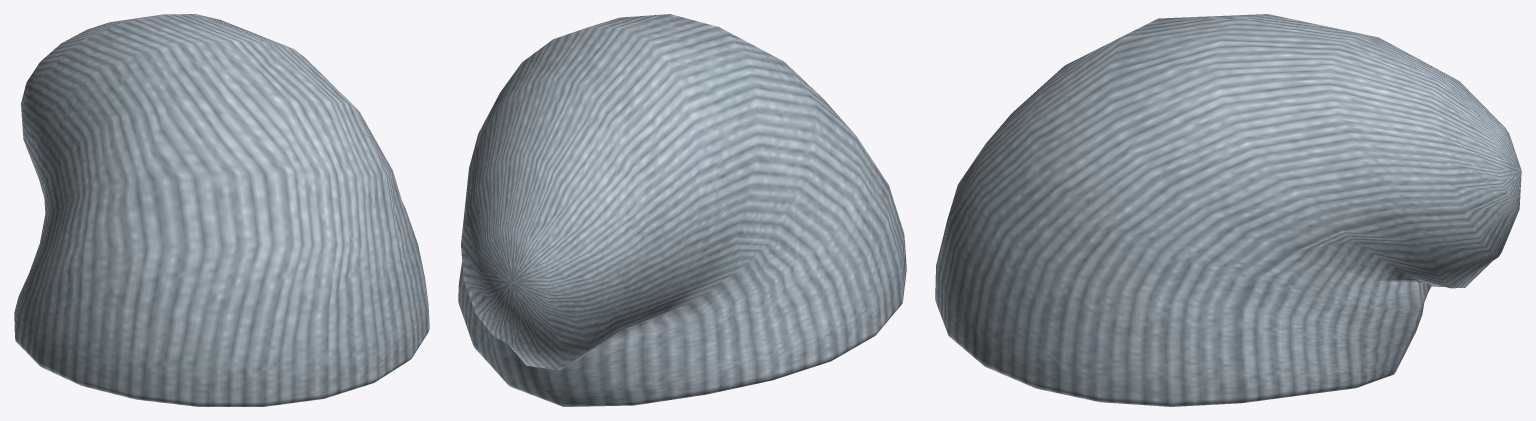
File: beanie.glb
3 renders of one model, left to right at view 1: azimuth 30°, elevation 25°; view 2: azimuth 150°, elevation 25°; view 3: azimuth 270°, elevation 25°, orthographic. The views are drawn at different scales.
Parts seen in each view (by area): view 1: Beanie_Beanie1_0; view 2: Beanie_Beanie1_0; view 3: Beanie_Beanie1_0.
Part boxes in pixels (left/top/right/bottom): Beanie_Beanie1_0: left=14, top=14, right=429, bottom=406; Beanie_Beanie1_0: left=458, top=14, right=906, bottom=406; Beanie_Beanie1_0: left=935, top=14, right=1521, bottom=406.
Bounding box in the file's own units: 1.38 × 1.04 × 1.72.
Materials: 1 (1 with a texture image).
